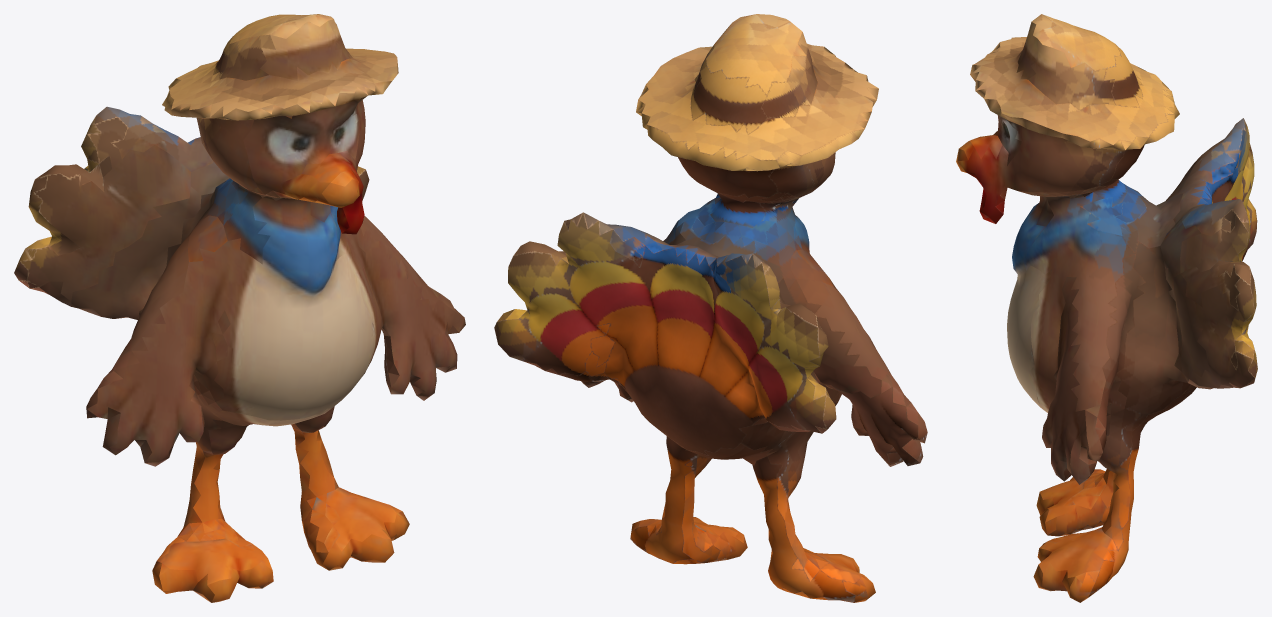
File: host-gobbler-toon.glb
The picture shows the model from 3 angles, left to right: view 1: azimuth 30°, elevation 25°; view 2: azimuth 150°, elevation 25°; view 3: azimuth 270°, elevation 25°; orthographic projection. The views are drawn at different scales.
Parts seen in each view (by area): view 1: world; view 2: world; view 3: world.
Boxes of the visible parts, x1=… form: world: x1=14, y1=14, x2=465, y2=602; world: x1=494, y1=14, x2=927, y2=602; world: x1=956, y1=14, x2=1257, y2=602.
Bounding box in the file's own units: 0.6236 × 0.8867 × 0.4564.
Materials: 1 (1 with a texture image).
